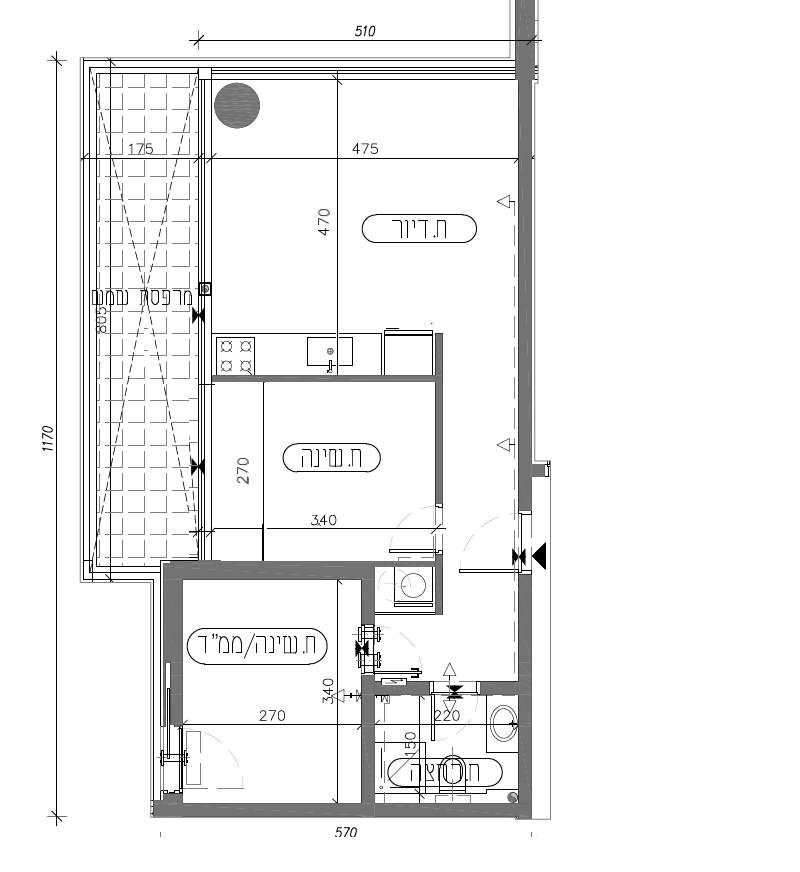wall: (518, 79, 532, 513), (163, 562, 375, 580), (520, 575, 533, 806)
